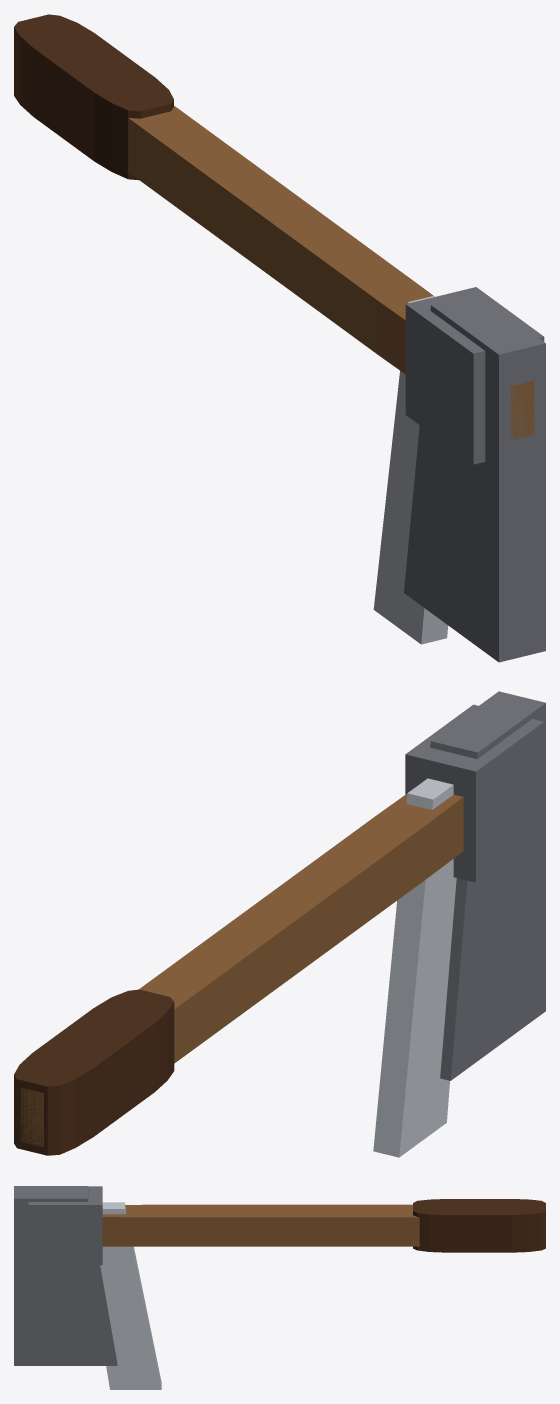
Rendered from prop_axe.obj.
3 views of the same model, one above another, from view 1: azimuth 30°, elevation 25°; view 2: azimuth 150°, elevation 25°; view 3: azimuth 270°, elevation 25° (orthographic). The views are drawn at different scales.
Visible parts, largest first — view 1: Arm.R.Lower.Tool.Head, Arm.R.Lower.Tool.Handle, Arm.R.Lower.Tool.Grip, Arm.R.Lower.Tool.Wedge, Arm.R.Lower.Tool.Edge; view 2: Arm.R.Lower.Tool.Handle, Arm.R.Lower.Tool.Head, Arm.R.Lower.Tool.Edge, Arm.R.Lower.Tool.Grip, Arm.R.Lower.Tool.Wedge; view 3: Arm.R.Lower.Tool.Handle, Arm.R.Lower.Tool.Head, Arm.R.Lower.Tool.Grip, Arm.R.Lower.Tool.Edge, Arm.R.Lower.Tool.Wedge.
Part boxes in pixels (x1=…): Arm.R.Lower.Tool.Head: x1=404, y1=293, x2=545, y2=662; Arm.R.Lower.Tool.Handle: x1=128, y1=106, x2=534, y2=440; Arm.R.Lower.Tool.Grip: x1=14, y1=14, x2=173, y2=180; Arm.R.Lower.Tool.Wedge: x1=405, y1=287, x2=544, y2=464; Arm.R.Lower.Tool.Edge: x1=373, y1=296, x2=448, y2=644; Arm.R.Lower.Tool.Handle: x1=20, y1=794, x2=463, y2=1147; Arm.R.Lower.Tool.Head: x1=430, y1=691, x2=545, y2=1080; Arm.R.Lower.Tool.Edge: x1=373, y1=778, x2=456, y2=1157; Arm.R.Lower.Tool.Grip: x1=14, y1=989, x2=174, y2=1155; Arm.R.Lower.Tool.Wedge: x1=405, y1=704, x2=544, y2=882; Arm.R.Lower.Tool.Handle: x1=102, y1=1204, x2=419, y2=1246; Arm.R.Lower.Tool.Head: x1=14, y1=1186, x2=117, y2=1365; Arm.R.Lower.Tool.Grip: x1=413, y1=1199, x2=545, y2=1252; Arm.R.Lower.Tool.Edge: x1=100, y1=1202, x2=161, y2=1389; Arm.R.Lower.Tool.Wedge: x1=28, y1=1186, x2=102, y2=1265.
Bounding box in the file's own units: 0.06 × 0.29 × 0.72.
